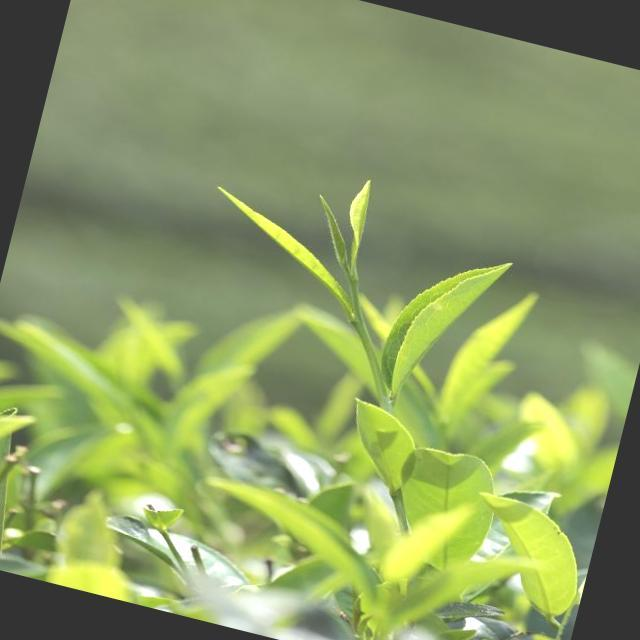Stem: (350, 315, 370, 341)
